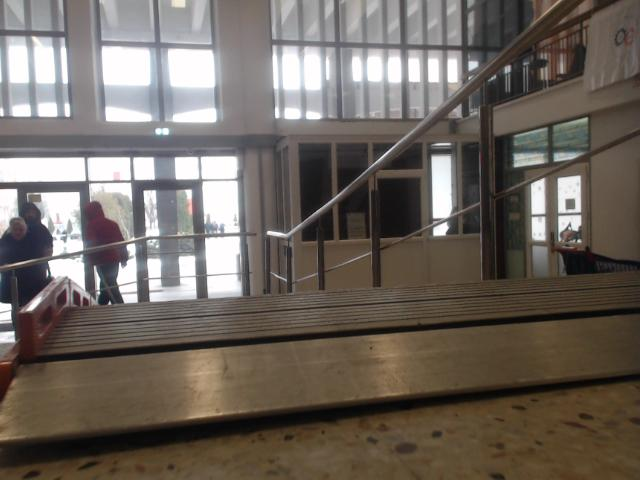rampDown: (0, 271, 639, 443)
ramps-railing: (265, 0, 582, 293), (8, 231, 258, 301), (491, 128, 639, 200), (442, 103, 496, 279), (382, 204, 480, 249), (370, 190, 380, 287), (325, 253, 371, 272), (316, 228, 326, 290)
